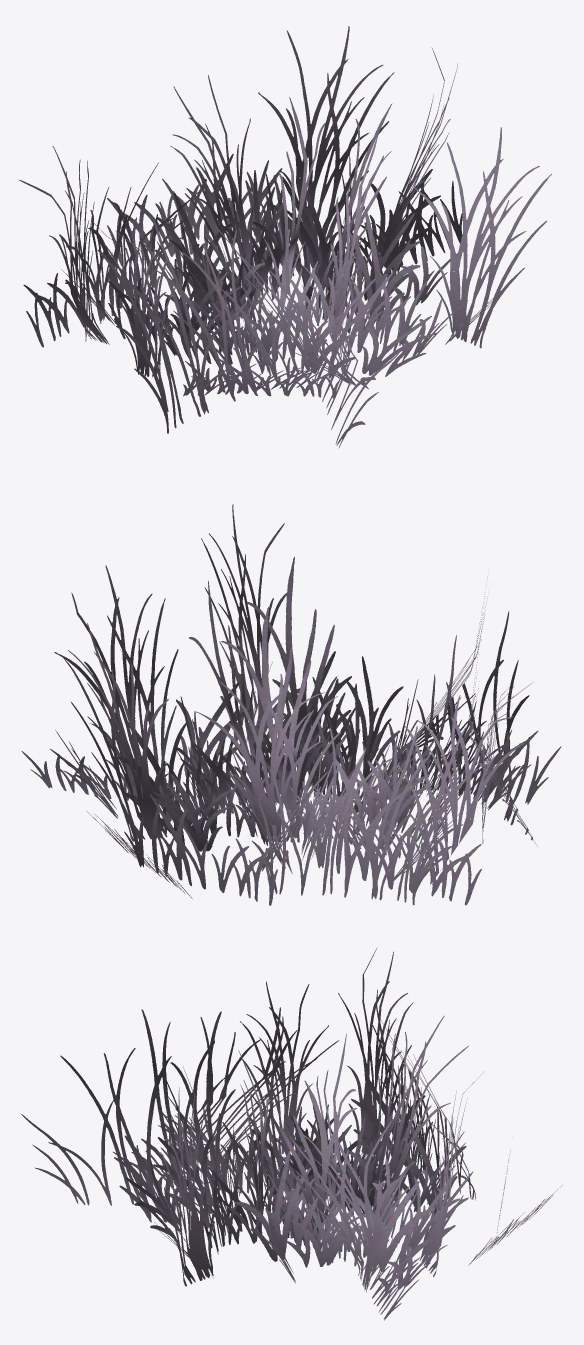
3 views of the same model, one above another, from view 1: azimuth 30°, elevation 25°; view 2: azimuth 150°, elevation 25°; view 3: azimuth 270°, elevation 25° (orthographic). The views are drawn at different scales.
Visible parts, largest first — view 1: SM_FH_GrassLong_02_NoDeform_LOD0; view 2: SM_FH_GrassLong_02_NoDeform_LOD0; view 3: SM_FH_GrassLong_02_NoDeform_LOD0.
Boxes of the visible parts, left/top/right/bottom form: SM_FH_GrassLong_02_NoDeform_LOD0: left=19, top=26, right=551, bottom=448; SM_FH_GrassLong_02_NoDeform_LOD0: left=21, top=504, right=561, bottom=905; SM_FH_GrassLong_02_NoDeform_LOD0: left=21, top=948, right=562, bottom=1320.
Size of the model in its own units: 1.19 by 0.6417 by 1.31.
